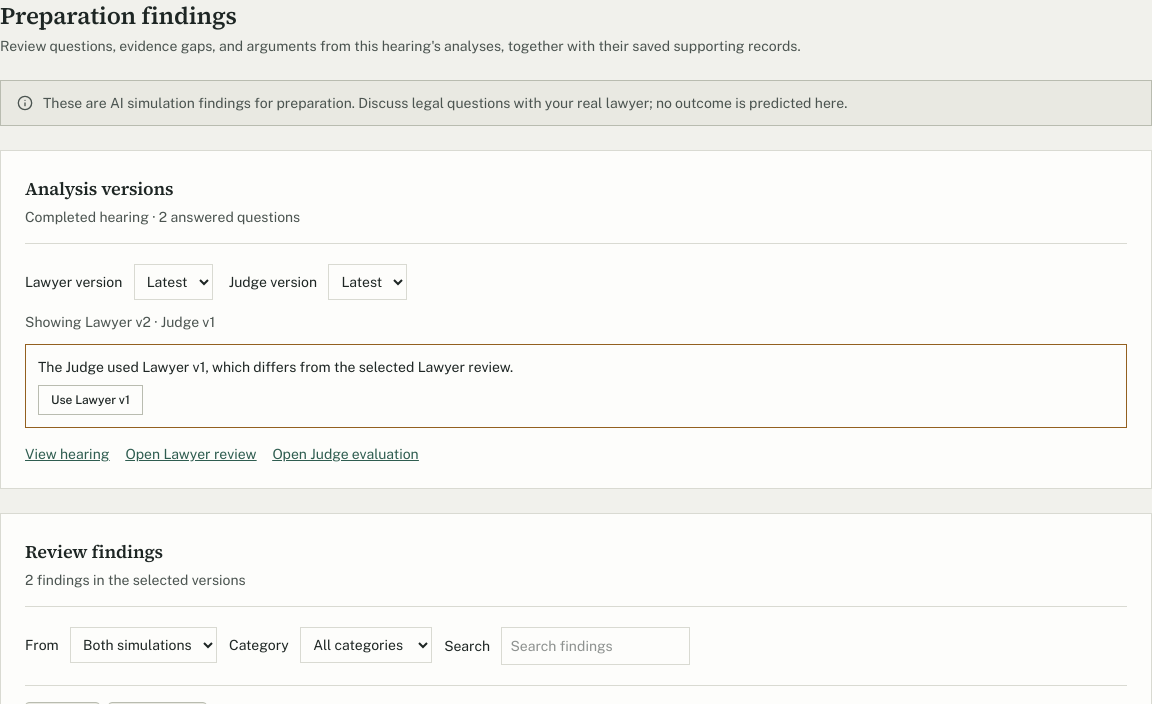
Test: filters findings by origin and category without changing stored analysis
Select "Judge" in the dropdown labelled "From": coordinates (144, 645) [70,627,217,663]
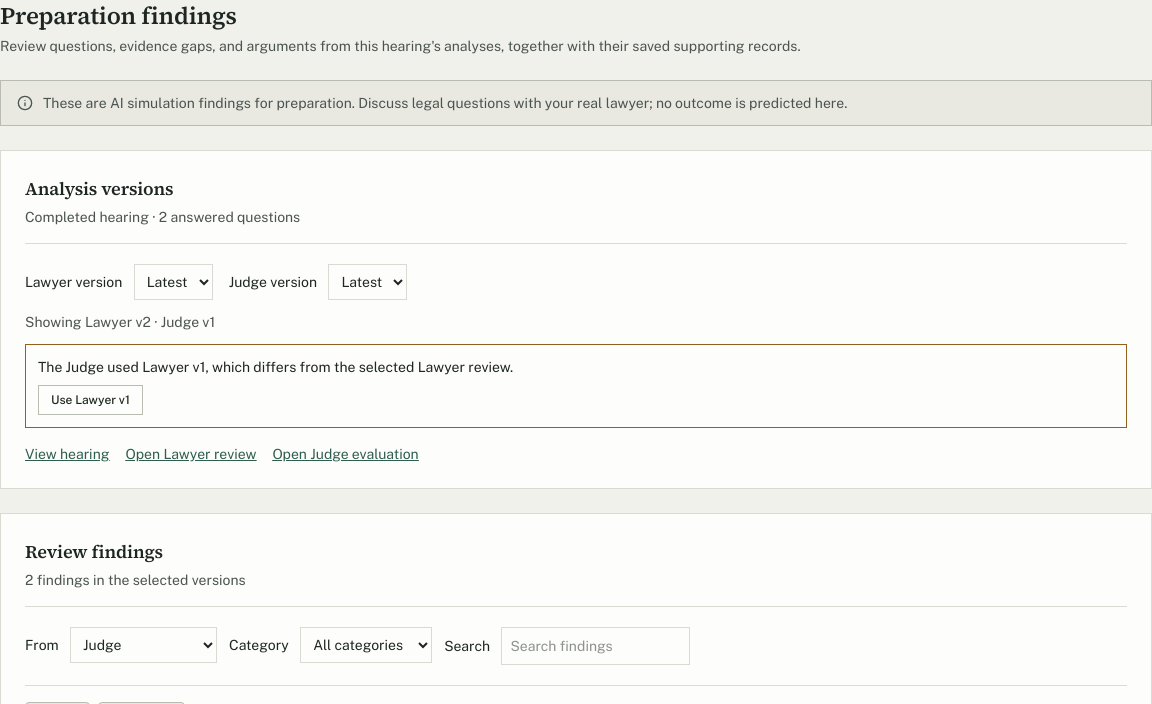
Select "Evidence gaps" in the dropdown labelled "Category": coordinates (366, 645) [300,627,432,663]
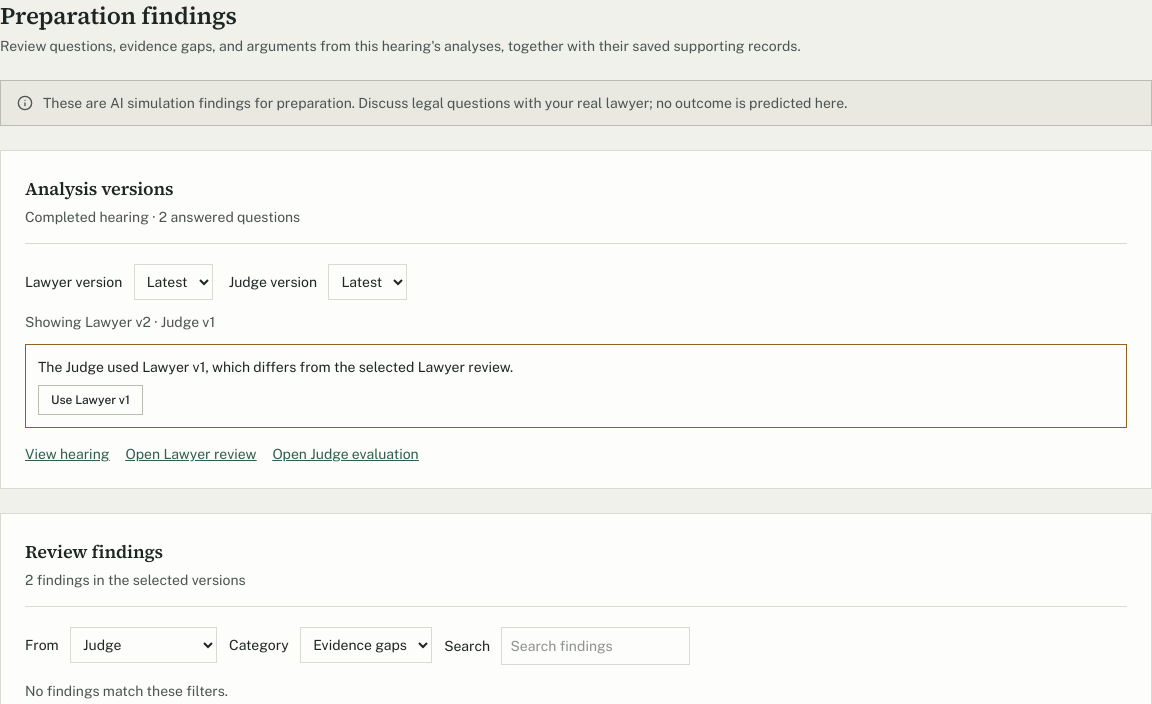
Expected: the text "No findings match these filters." is shown, [25,683,228,699]
